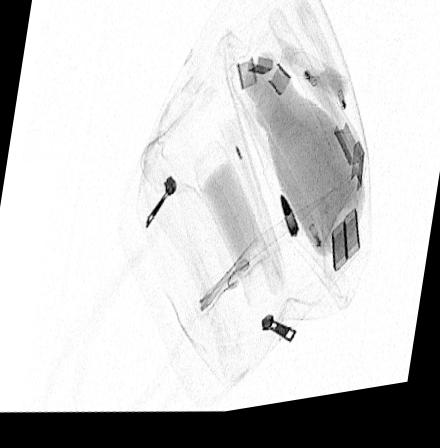Bullet: (280, 200, 300, 247)
